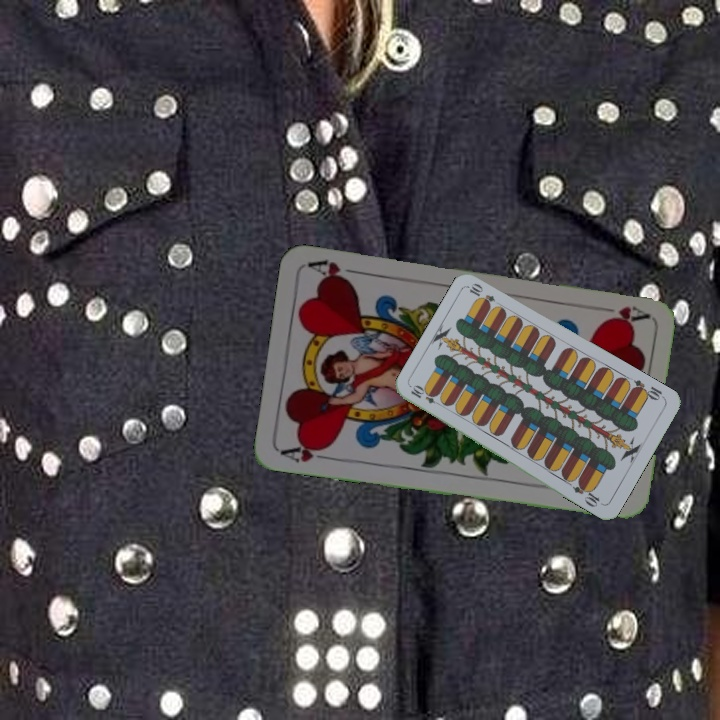E10: (628, 376, 667, 403), (407, 382, 445, 409)
HA: (277, 439, 337, 466), (591, 301, 650, 326)
